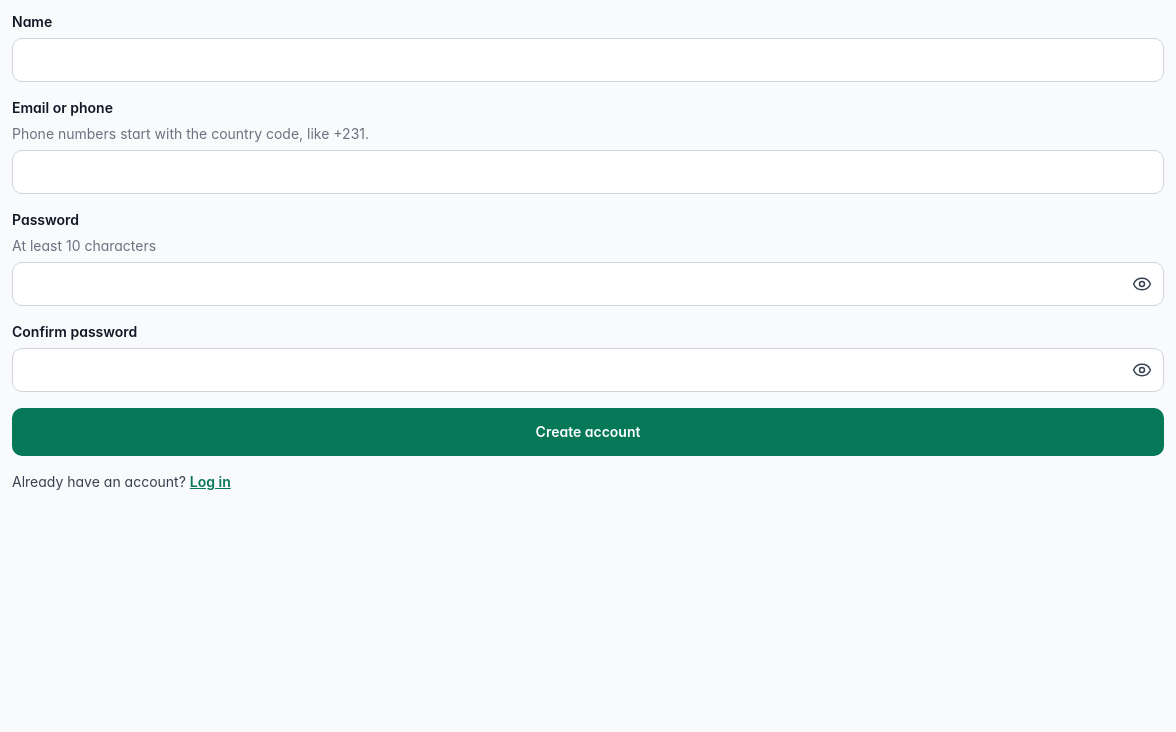
Register (SCR-04, FR-01) › shows the generic duplicate message with a Log in link and keeps the values
The width and height of the screenshot is (1176, 732).
Type "Ada" into the field labelled "Name" at (588, 60), box x1=12 y1=38 x2=1164 y2=82
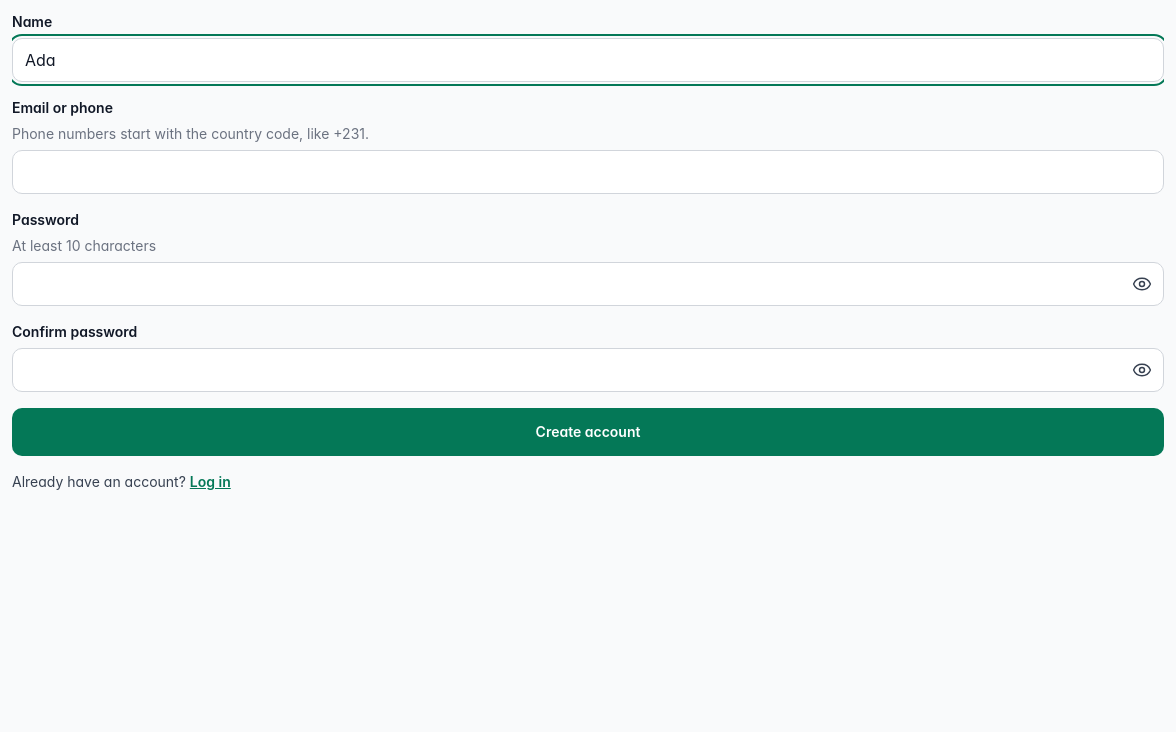
Type "ada@example.com" into the field labelled "Email or phone" at (588, 172), box x1=12 y1=150 x2=1164 y2=194
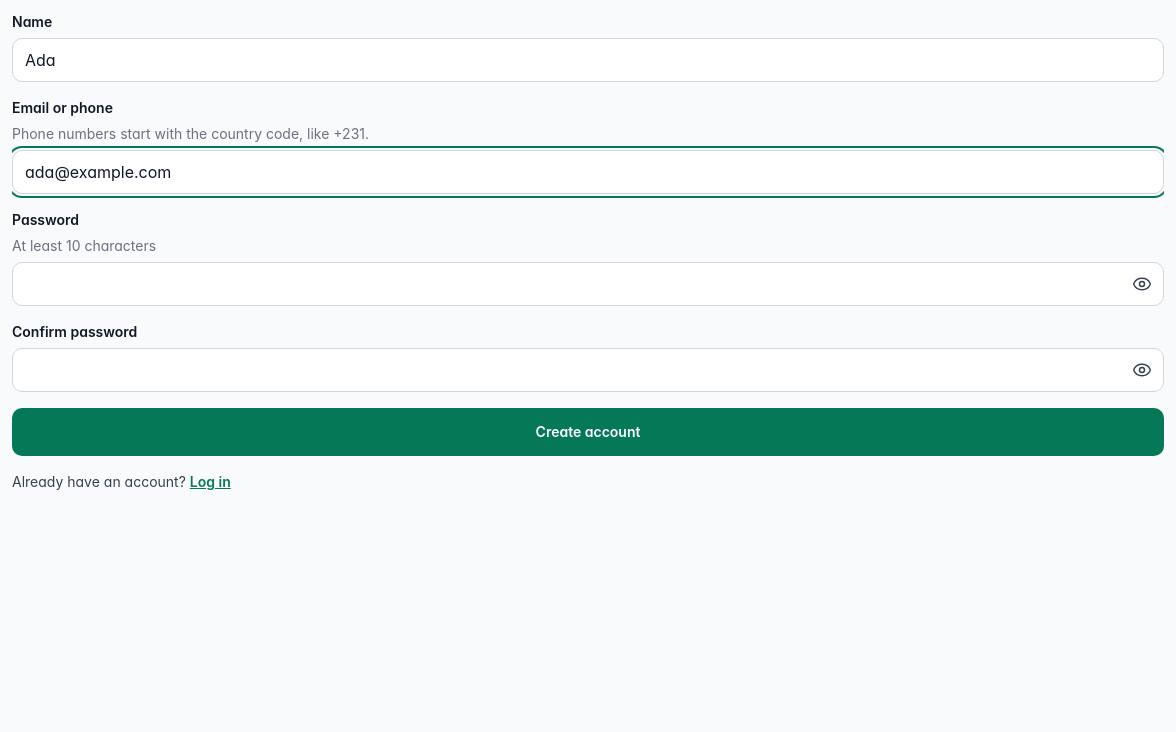
Type "long-enough-1" into the password field labelled "Password" at (588, 284), box x1=12 y1=262 x2=1164 y2=306
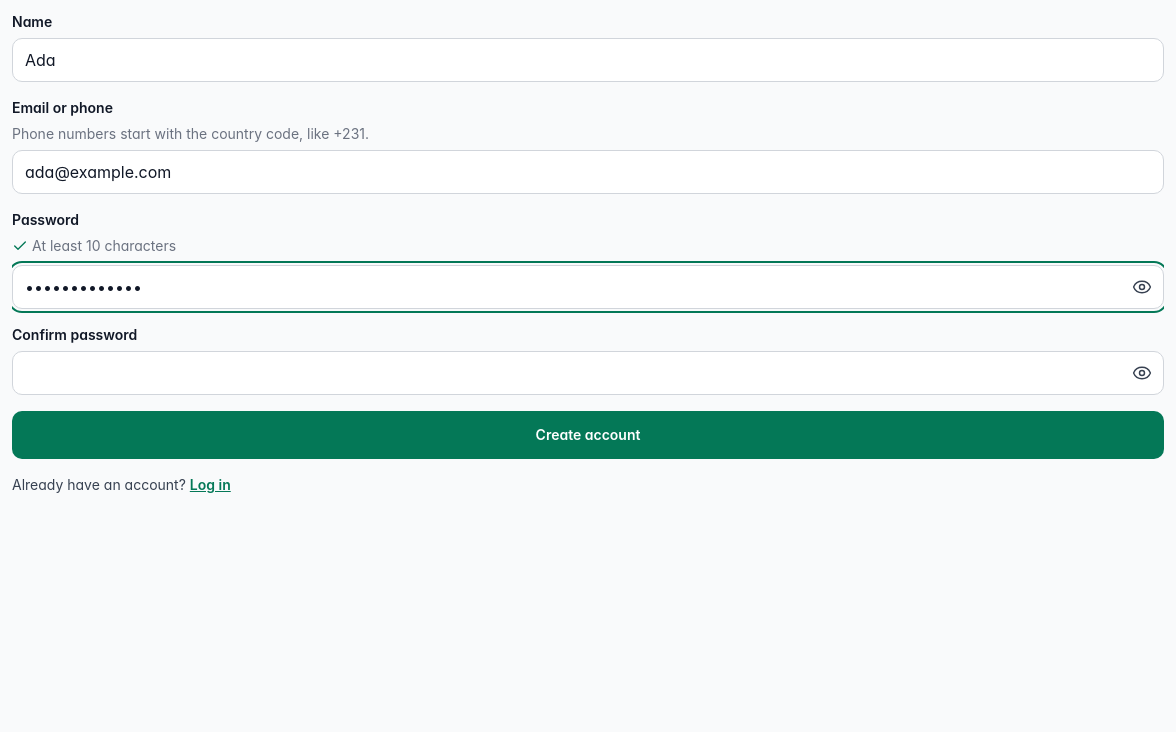
Type "long-enough-1" into the password field labelled "Confirm password" at (588, 373), box x1=12 y1=351 x2=1164 y2=395
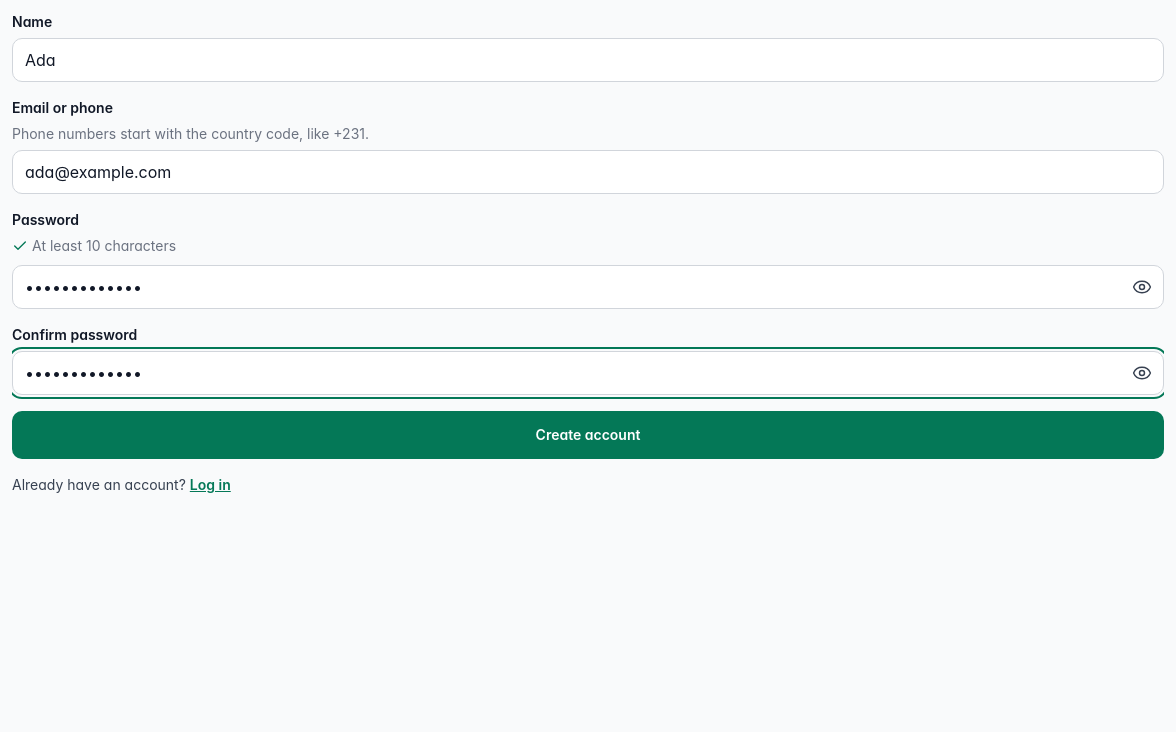
Click the button "Create account" at (588, 435), box x1=12 y1=411 x2=1164 y2=459
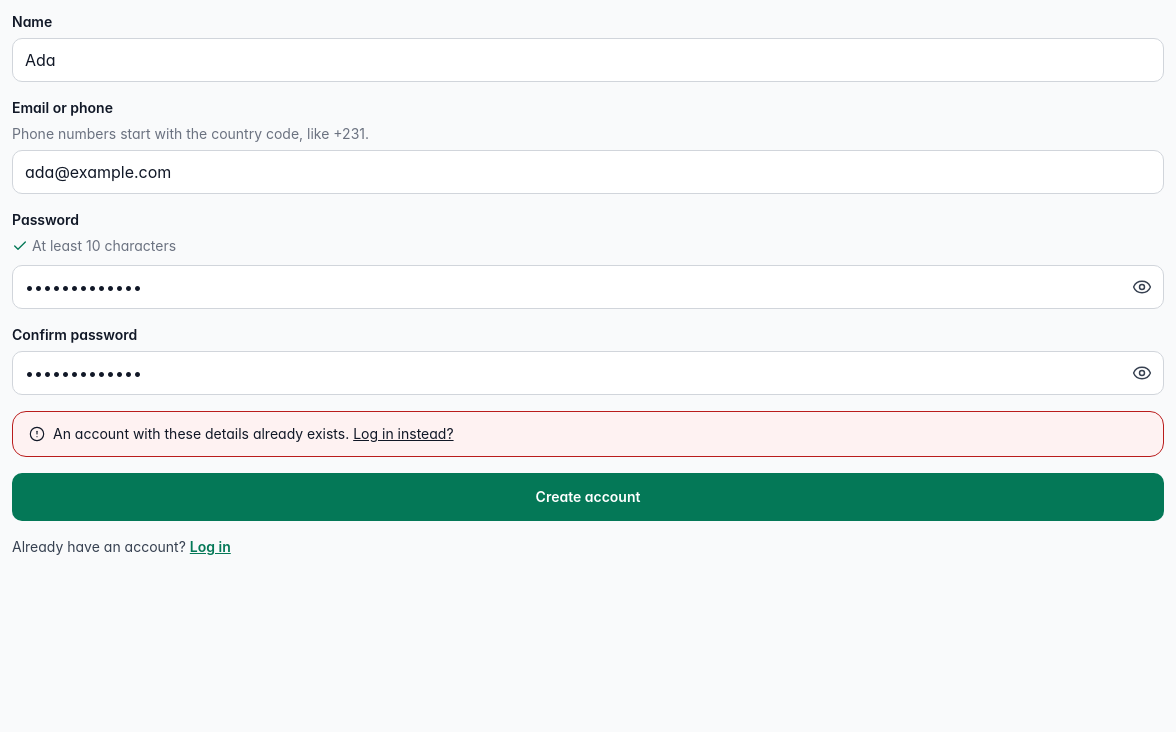
Check: the text "An account with these details already exists." is shown, box x1=53 y1=425 x2=349 y2=442
Check: the link "Log in instead?" is shown, box x1=353 y1=425 x2=454 y2=442
